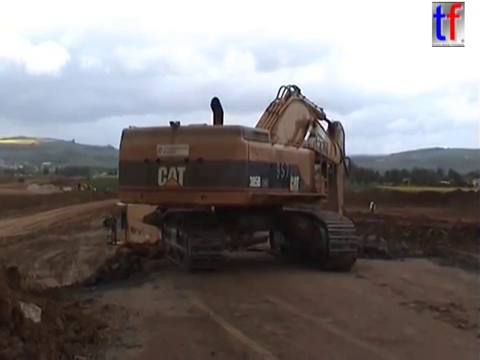excavator: (115, 81, 361, 273), (72, 178, 98, 193)
truck: (100, 198, 272, 276), (16, 174, 27, 184)
worker: (368, 198, 379, 216)
